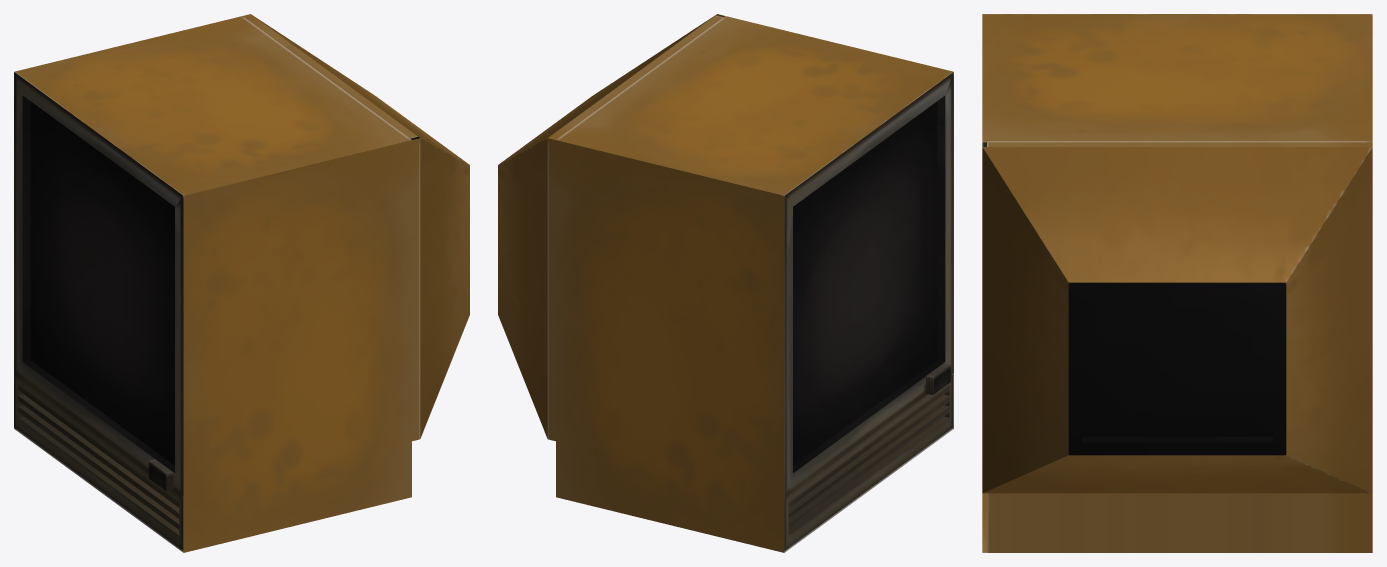
3 renders of one model, left to right at view 1: azimuth 30°, elevation 25°; view 2: azimuth 150°, elevation 25°; view 3: azimuth 270°, elevation 25°, orthographic. The views are drawn at different scales.
Parts seen in each view (by area): view 1: TV; view 2: TV; view 3: TV.
Part boxes in pixels (x1,y1,x2,y2): TV: (14,14,469,552); TV: (498,14,953,552); TV: (982,14,1372,552).
Bounding box in the file's own units: 101 × 105 × 90.
